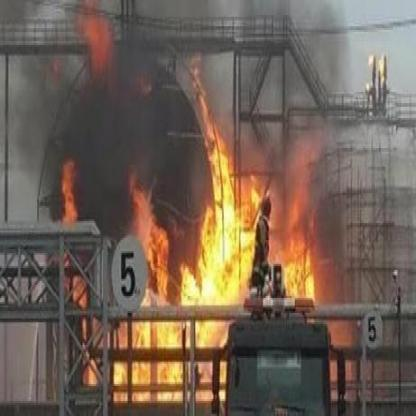fire: (31, 4, 349, 410)
